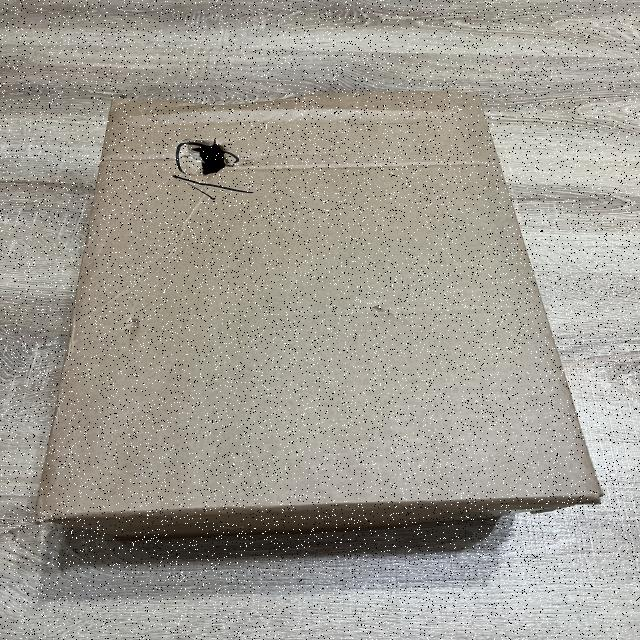damaged: (27, 75, 602, 529), (169, 129, 250, 198)
